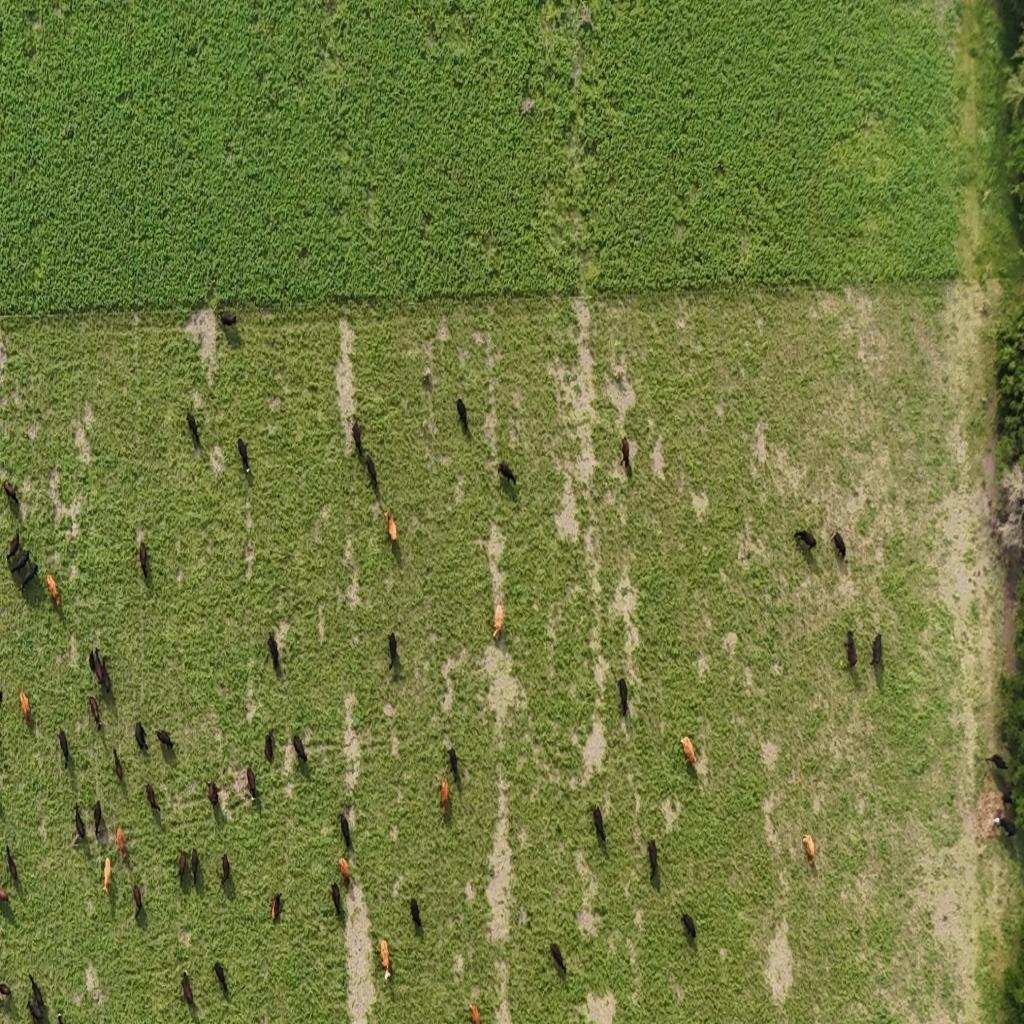cow: (17, 562, 39, 596), (591, 804, 607, 850), (8, 547, 30, 577), (180, 968, 195, 1009), (97, 654, 112, 694), (28, 973, 44, 1009), (844, 629, 858, 669), (995, 814, 1018, 838), (986, 752, 1011, 774), (266, 636, 280, 675), (550, 942, 567, 974), (46, 573, 61, 608), (6, 844, 19, 884), (88, 695, 102, 732), (385, 636, 399, 673), (214, 960, 228, 997), (680, 734, 696, 766), (292, 732, 308, 764), (6, 530, 21, 564), (380, 939, 392, 981), (28, 996, 46, 1024), (238, 438, 251, 476), (156, 728, 175, 754), (794, 528, 816, 550), (497, 462, 517, 486), (681, 912, 697, 942), (802, 833, 816, 867), (3, 480, 20, 508), (74, 803, 86, 842), (58, 728, 70, 766), (365, 454, 377, 492), (492, 603, 504, 640), (448, 747, 460, 784), (648, 838, 658, 882), (339, 813, 351, 849), (832, 530, 846, 560), (439, 777, 449, 818), (187, 412, 199, 446), (385, 510, 397, 543), (618, 678, 628, 717), (146, 782, 159, 812), (132, 883, 143, 918), (871, 632, 882, 667), (456, 398, 468, 430), (410, 897, 422, 929), (116, 826, 127, 860), (135, 721, 147, 752), (190, 848, 200, 885), (331, 881, 341, 918), (139, 542, 149, 579), (89, 649, 99, 686), (246, 766, 257, 799), (270, 893, 282, 923), (102, 856, 111, 895), (177, 850, 187, 885), (20, 689, 30, 723), (220, 852, 230, 886), (265, 729, 275, 763), (113, 748, 123, 782), (620, 437, 630, 471), (352, 420, 362, 454), (207, 780, 219, 808), (339, 856, 350, 886), (93, 800, 102, 836), (219, 310, 237, 326), (1001, 790, 1016, 806), (0, 982, 12, 1000), (421, 368, 432, 387), (470, 1004, 480, 1024), (0, 882, 10, 902), (57, 1010, 65, 1024)
